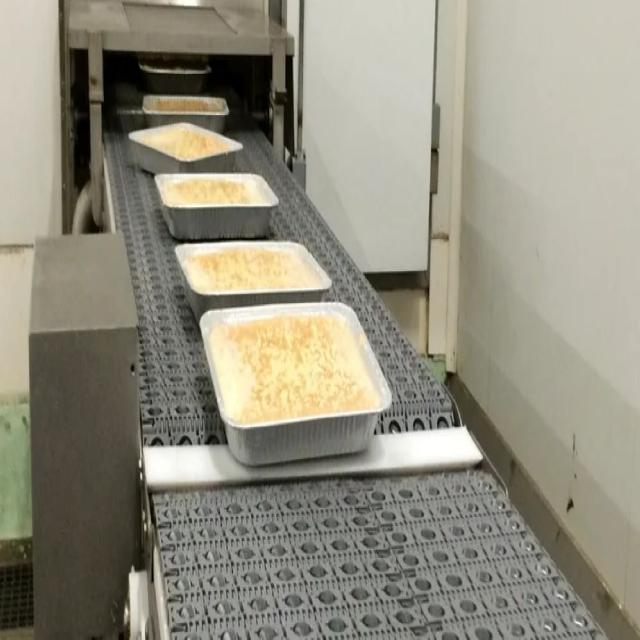food: (198, 298, 393, 468), (168, 228, 340, 320), (120, 114, 249, 184), (153, 170, 280, 241)
